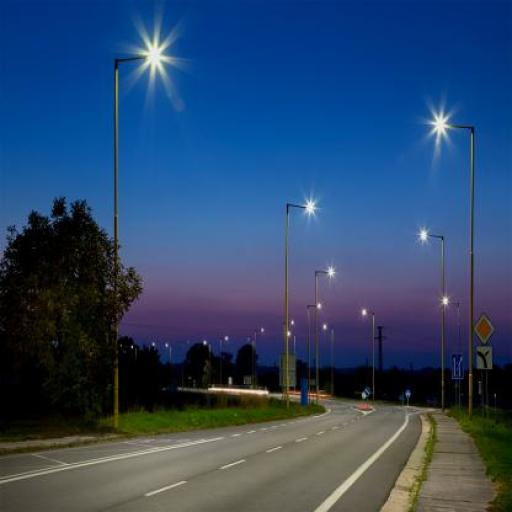street light: (113, 50, 163, 428), (434, 118, 476, 420), (286, 200, 314, 412), (420, 230, 445, 416), (315, 268, 337, 410), (362, 309, 375, 404), (308, 303, 320, 399), (322, 325, 334, 396), (283, 319, 294, 394), (255, 327, 264, 391), (288, 330, 297, 388), (220, 336, 228, 388), (247, 338, 255, 386), (182, 340, 189, 389), (203, 341, 210, 388), (166, 343, 172, 384), (150, 343, 156, 376)
